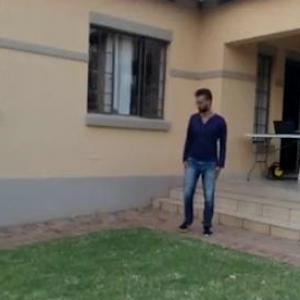follow: (178, 79, 226, 246)
